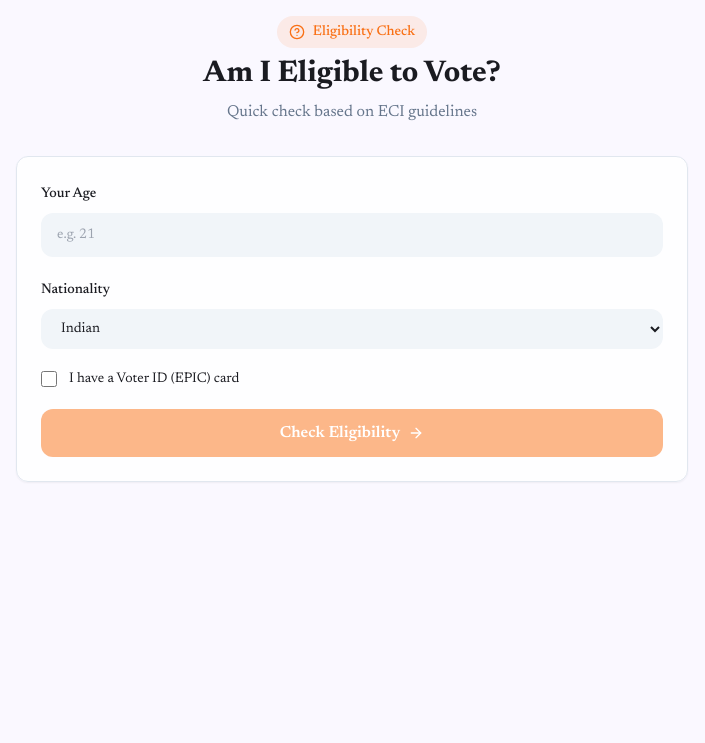
it: EligibilityPage › shows eligibility result when form is submitted
This screenshot has width=705, height=743.
Step 1. Type "25" into the number field labelled "Your Age" → [352, 235], box [41,213,663,257]
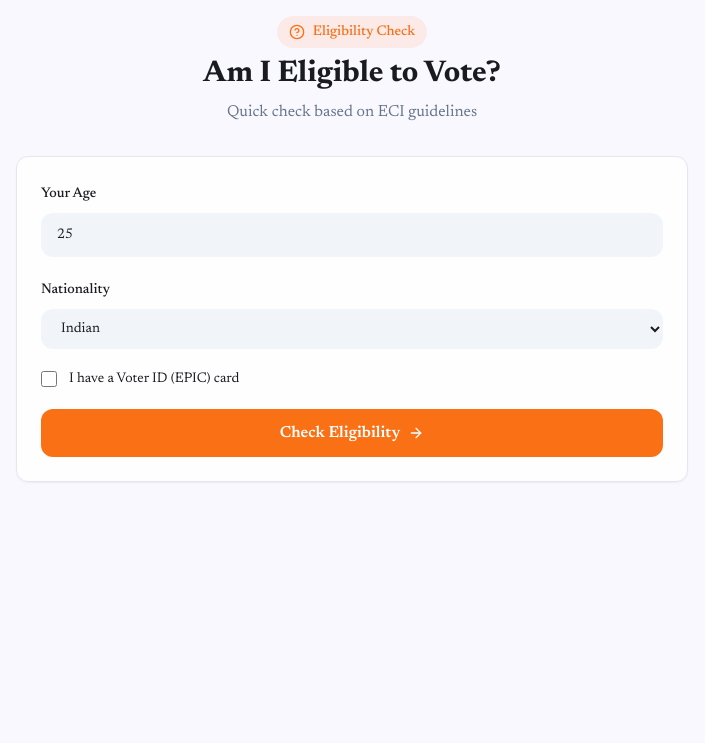
Step 2. Click the button "Check Eligibility" → [352, 433], box [41,409,663,457]
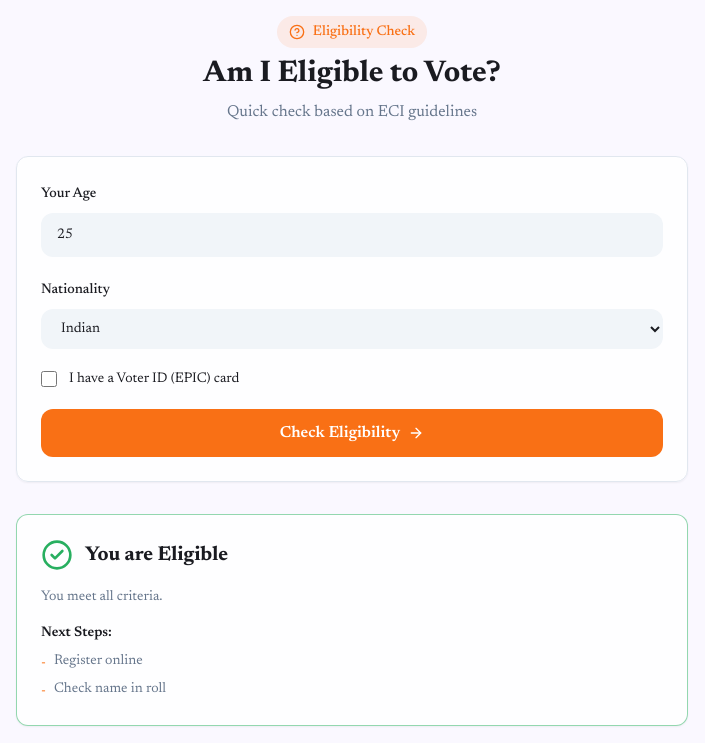
Check: the heading "You are Eligible" is shown, box [85,541,228,569]
Check: the list item "Register online" is shown, box [54,654,143,668]
